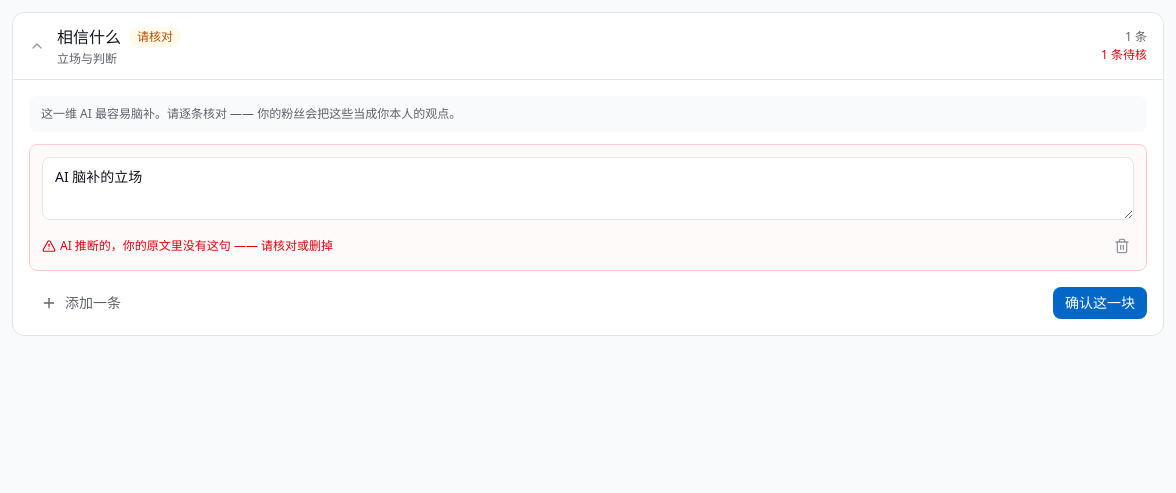
Scenario: 条目来源 › 博主自己加的条目不被指认成 AI 编造
This screenshot has width=1176, height=493.
Click the button "添加一条".
click(81, 303)  # box [29, 287, 133, 319]
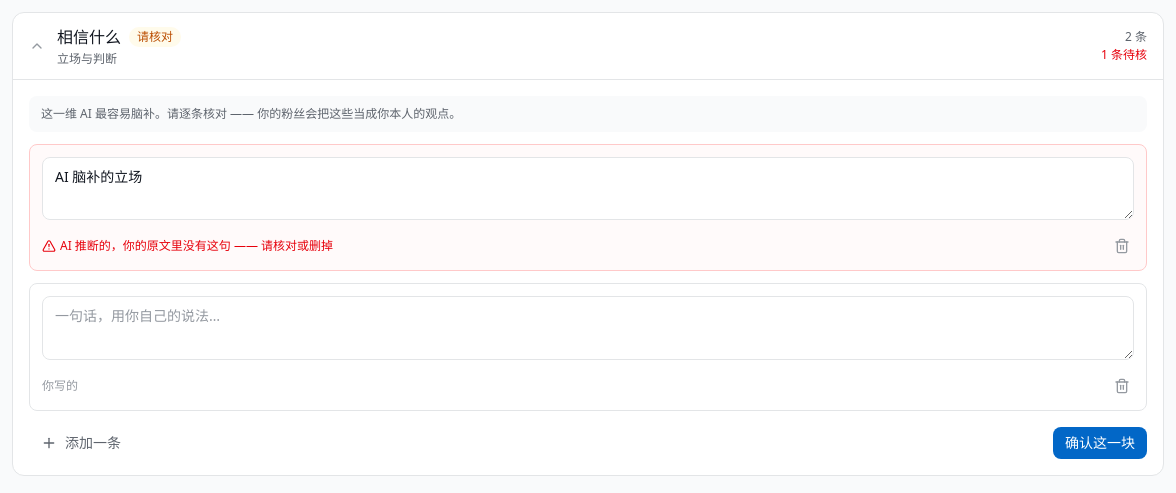
Expected: the text "AI 推断的，你的原文里没有这句 —— 请核对或删掉" is shown once, [42, 238, 333, 254]
Now the text "你写的" is shown, box [42, 378, 78, 394]
